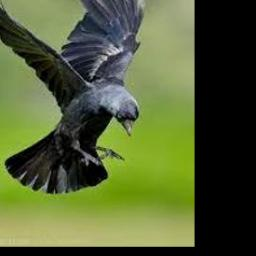Crow: (0, 0, 144, 193)
